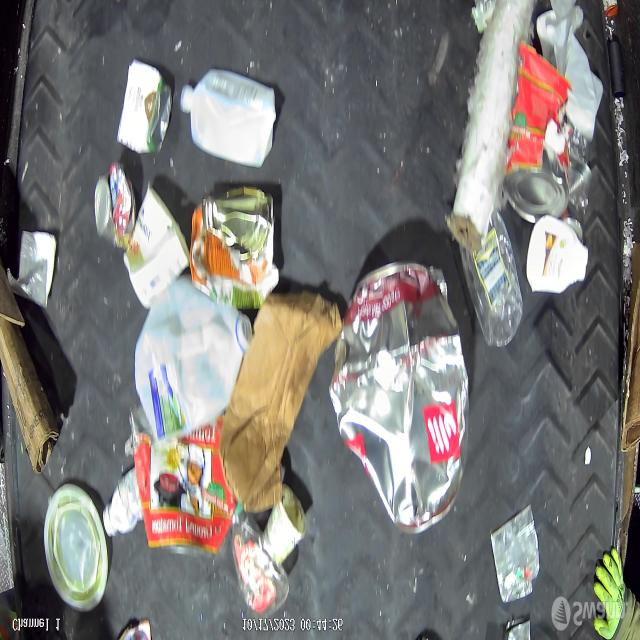can: (118, 60, 173, 156), (95, 162, 137, 249)
milk_jug: (134, 276, 252, 443), (180, 69, 277, 169)
plastic_bottle: (230, 500, 290, 611)
